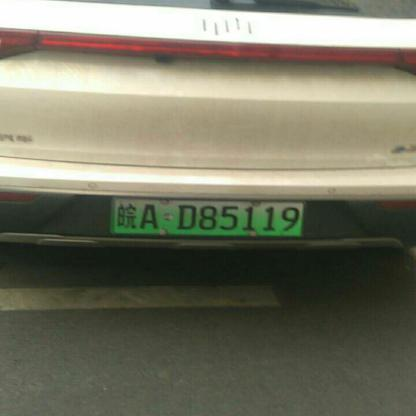lp: (109, 197, 305, 236)
